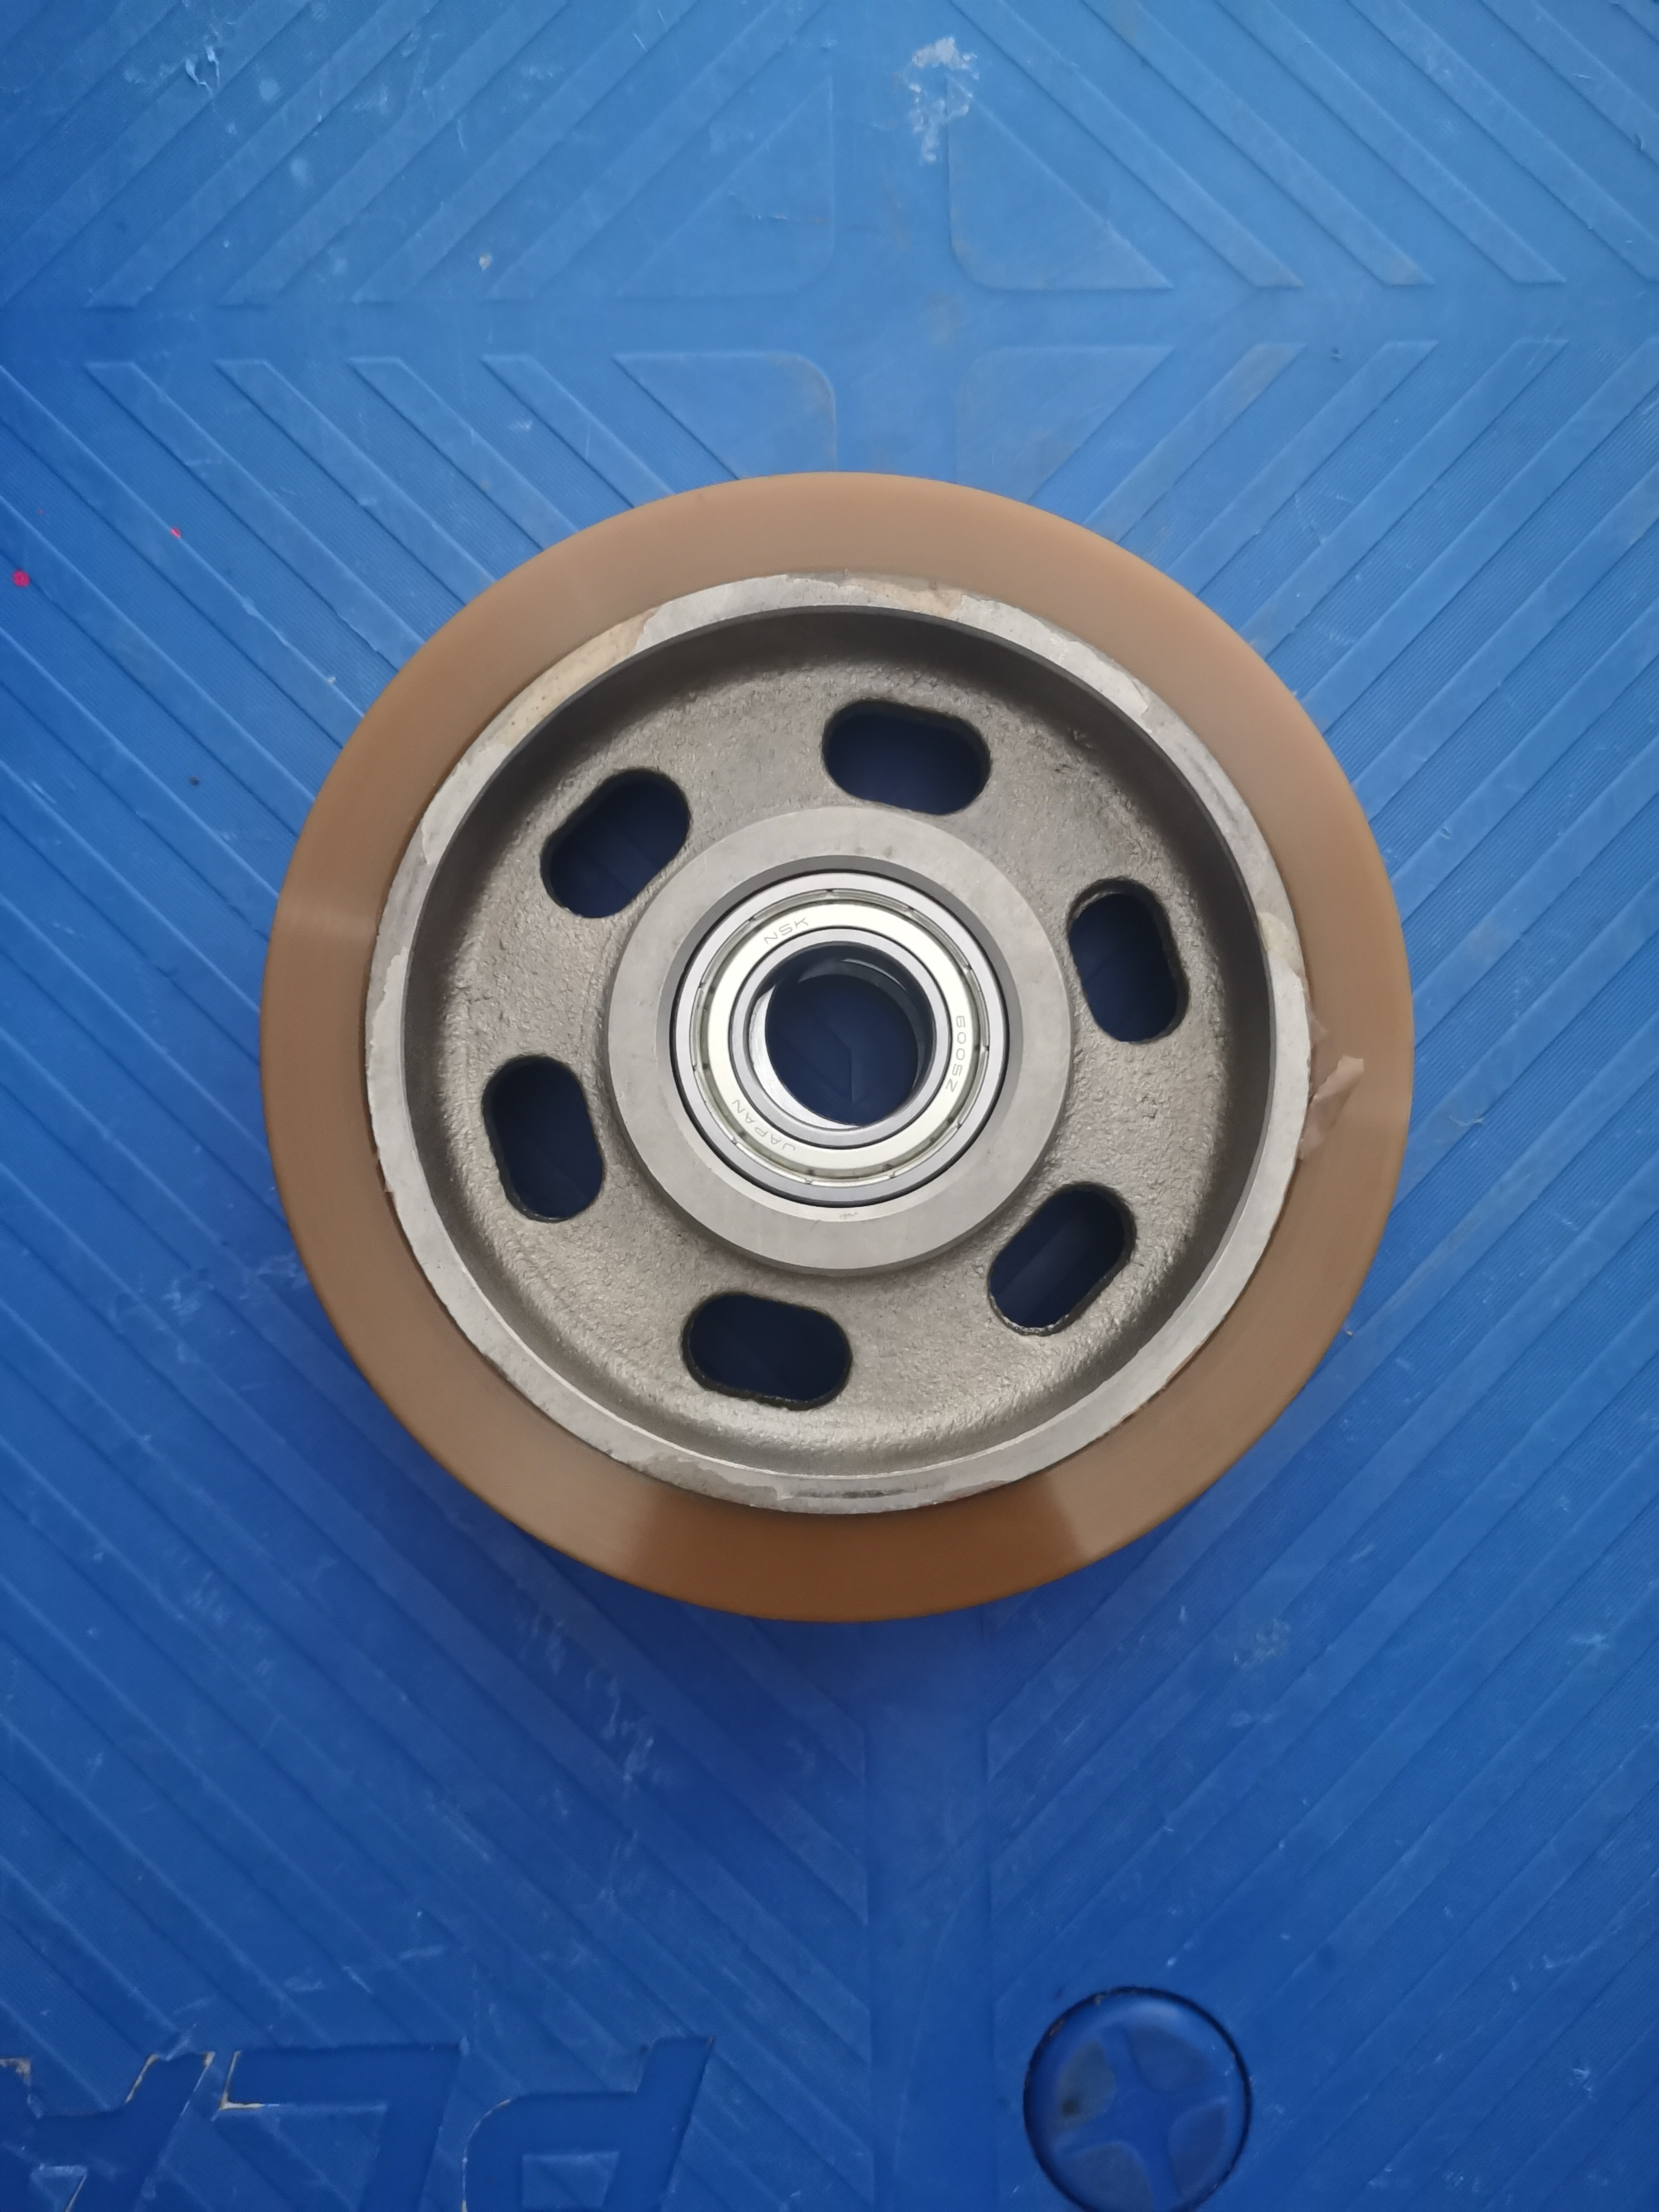good_wheel: (220, 406, 1448, 1695)
